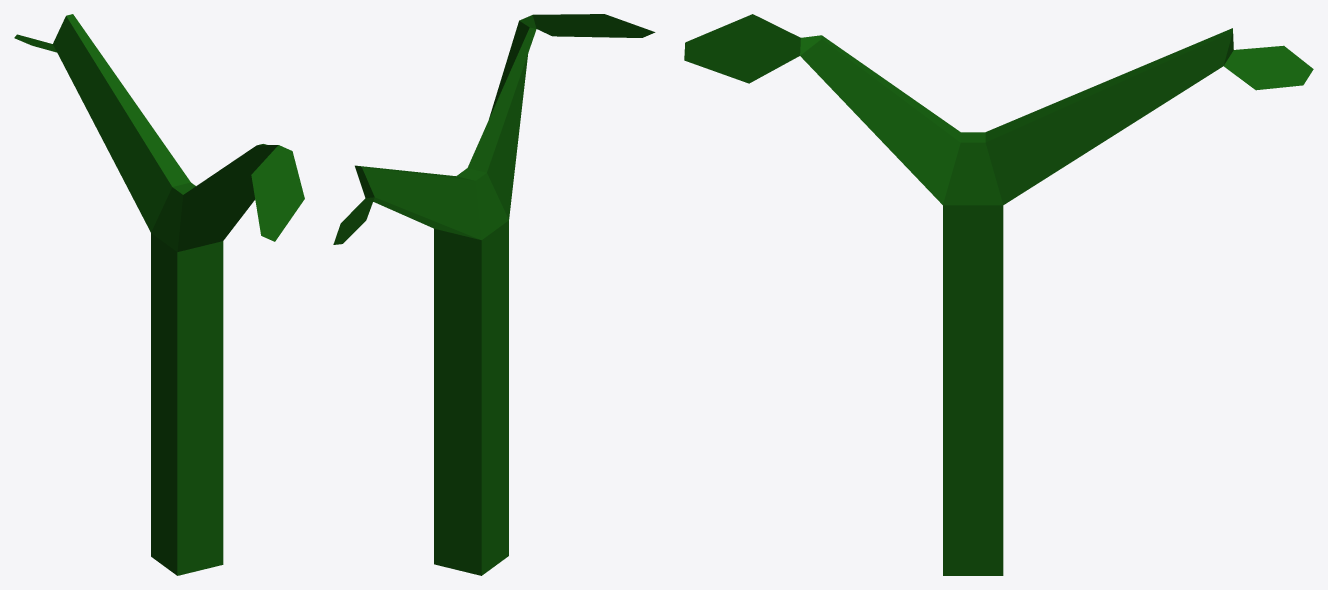
File: testsapling.obj
3 views of the same model, side by side, from view 1: azimuth 30°, elevation 25°; view 2: azimuth 150°, elevation 25°; view 3: azimuth 270°, elevation 25° (orthographic). The views are drawn at different scales.
Parts seen in each view (by area): view 1: Cube; view 2: Cube; view 3: Cube.
Boxes of the visible parts, box(x1,y1,x2,y2) form: Cube: box(14, 14, 304, 575); Cube: box(333, 14, 655, 575); Cube: box(684, 14, 1313, 575).
Bounding box in the file's own units: 0.3561 × 1.95 × 2.08.
